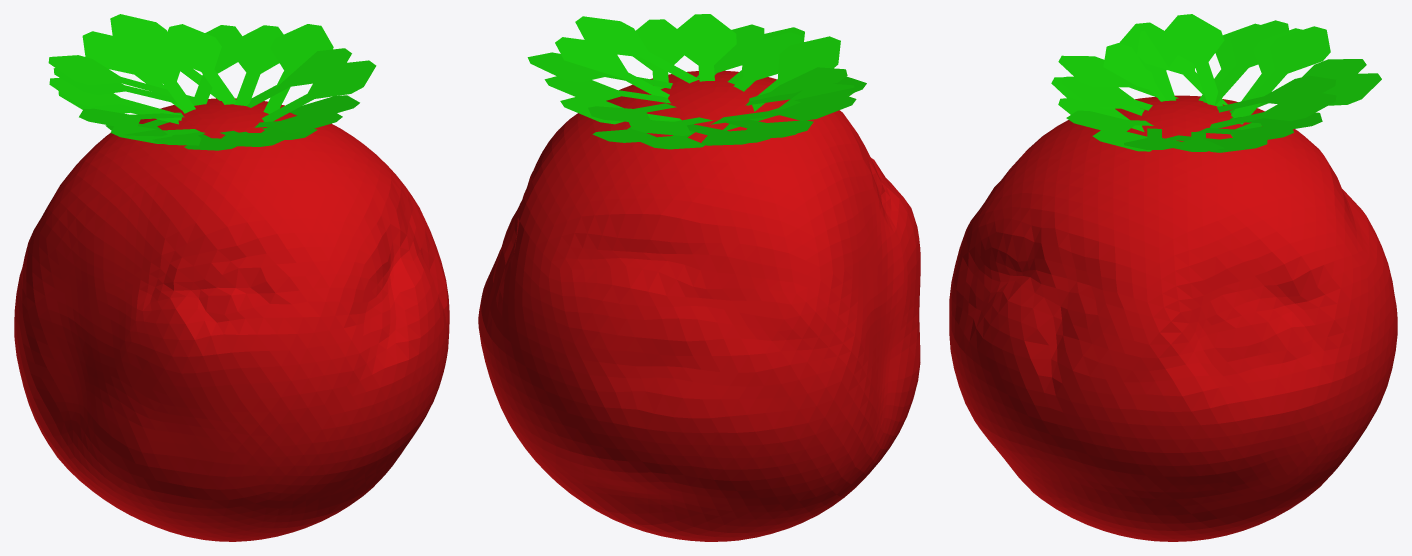
The model's file is Tomate.dae.
3 renders of one model, left to right at view 1: azimuth 30°, elevation 25°; view 2: azimuth 150°, elevation 25°; view 3: azimuth 270°, elevation 25°, orthographic. The views are drawn at different scales.
Parts seen in each view (by area): view 1: Icosphere.005, Plane.7053_Plane.053, Plane.7052_Plane.052, Plane.7054_Plane.054, Plane.7042_Plane.042, Plane.7040_Plane.040, Plane.7059_Plane.059, Plane.7041_Plane.041, Plane.7048_Plane.048, Plane.7049_Plane.049, Plane.7060_Plane.060, Plane.7043_Plane.043 (+7 smaller); view 2: Icosphere.005, Plane.7057_Plane.057, Plane.7040_Plane.040, Plane.7055_Plane.055, Plane.7041_Plane.041, Plane.7046_Plane.046, Plane.7061_Plane.061, Plane.7058_Plane.058, Plane.7052_Plane.052, Plane.7042_Plane.042, Plane.7045_Plane.045, Plane.7047_Plane.047 (+9 smaller); view 3: Icosphere.005, Plane.7061_Plane.061, Plane.7059_Plane.059, Plane.7060_Plane.060, Plane.7053_Plane.053, Plane.7045_Plane.045, Plane.7055_Plane.055, Plane.7062_Plane.062, Plane.7054_Plane.054, Plane.7048_Plane.048, Plane.7046_Plane.046, Plane.7044_Plane.044 (+11 smaller).
Boxes of the visible parts, x1,y1,x2,y2 form: Icosphere.005: [14, 98, 449, 541]; Plane.7053_Plane.053: [160, 24, 235, 104]; Plane.7052_Plane.052: [263, 24, 333, 113]; Plane.7054_Plane.054: [122, 36, 195, 113]; Plane.7042_Plane.042: [229, 25, 283, 105]; Plane.7040_Plane.040: [262, 60, 376, 121]; Plane.7059_Plane.059: [48, 55, 197, 104]; Plane.7041_Plane.041: [246, 48, 351, 107]; Plane.7048_Plane.048: [110, 14, 221, 100]; Plane.7049_Plane.049: [82, 31, 181, 110]; Plane.7060_Plane.060: [49, 77, 182, 120]; Plane.7043_Plane.043: [192, 25, 241, 105]; Icosphere.005: [478, 70, 920, 541]; Plane.7057_Plane.057: [670, 14, 736, 81]; Plane.7040_Plane.040: [575, 16, 699, 83]; Plane.7055_Plane.055: [752, 36, 840, 111]; Plane.7041_Plane.041: [555, 37, 669, 97]; Plane.7046_Plane.046: [733, 32, 802, 91]; Plane.7061_Plane.061: [711, 92, 856, 124]; Plane.7058_Plane.058: [633, 19, 684, 89]; Plane.7052_Plane.052: [527, 52, 672, 88]; Plane.7042_Plane.042: [544, 76, 670, 103]; Plane.7045_Plane.045: [747, 67, 847, 105]; Plane.7047_Plane.047: [696, 24, 764, 78]; Icosphere.005: [949, 95, 1397, 541]; Plane.7061_Plane.061: [1159, 14, 1224, 106]; Plane.7059_Plane.059: [1232, 26, 1330, 124]; Plane.7060_Plane.060: [1203, 20, 1288, 105]; Plane.7053_Plane.053: [1209, 91, 1336, 128]; Plane.7045_Plane.045: [1103, 43, 1166, 101]; Plane.7055_Plane.055: [1058, 55, 1178, 98]; Plane.7062_Plane.062: [1119, 22, 1177, 100]; Plane.7054_Plane.054: [1217, 75, 1335, 112]; Plane.7048_Plane.048: [1231, 73, 1381, 137]; Plane.7046_Plane.046: [1061, 76, 1152, 110]; Plane.7044_Plane.044: [1136, 30, 1227, 104].
Size of the model in its own units: 6.97 by 8.03 by 7.42.
